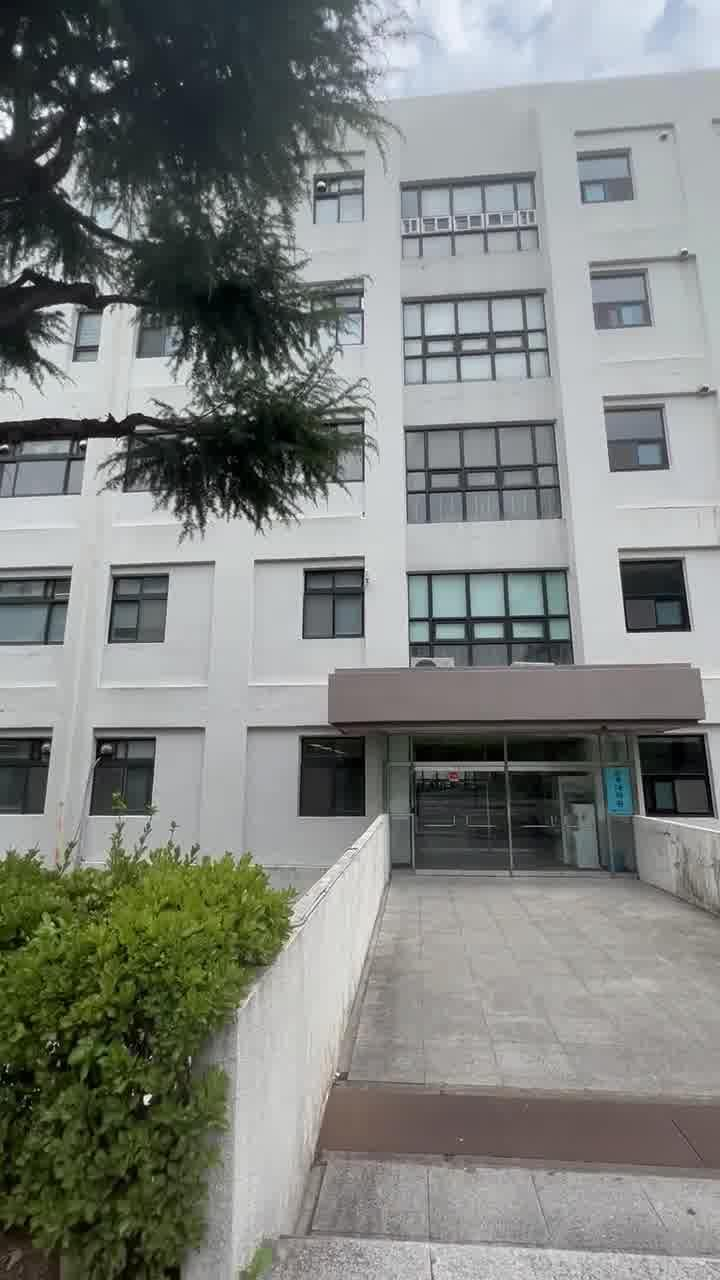building: (350, 132, 720, 908)
